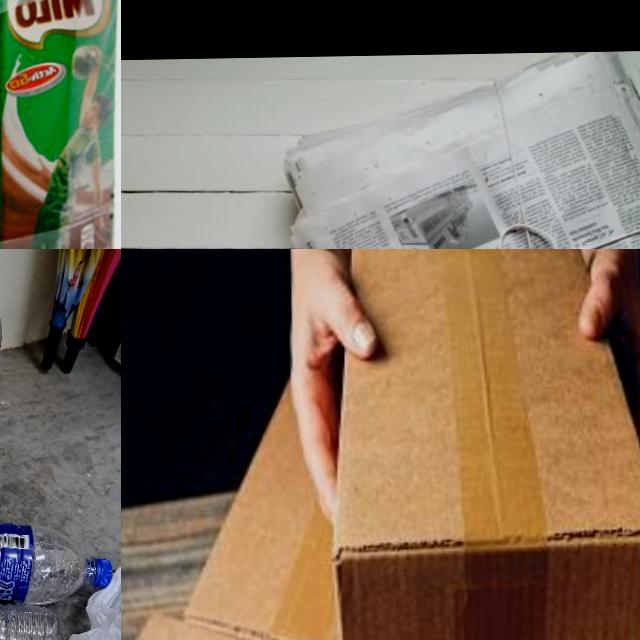caixinha: (0, 0, 121, 249)
garrafa plástica: (0, 500, 92, 609)
papel: (281, 49, 640, 249)
papelão: (326, 249, 640, 640), (181, 372, 342, 640)
tampa plástica: (94, 558, 111, 588)
